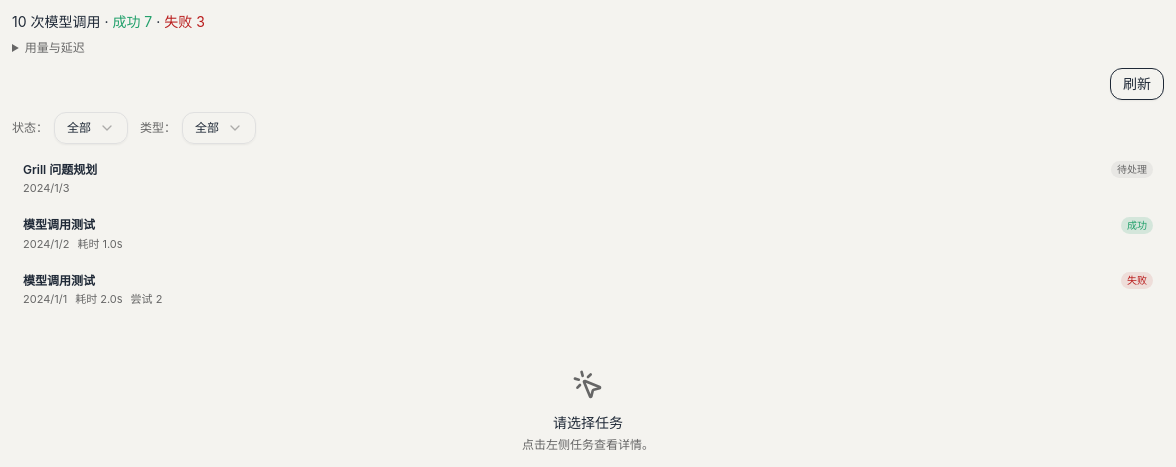
三、TaskCenter 键盘导航 › 筛选后焦点合法
The image size is (1176, 467).
What coordinates should you click on to do the following:
click the dropdown with test id "status-filter"
I would click on:
 (91, 128)
Its box is [54,112,128,144].
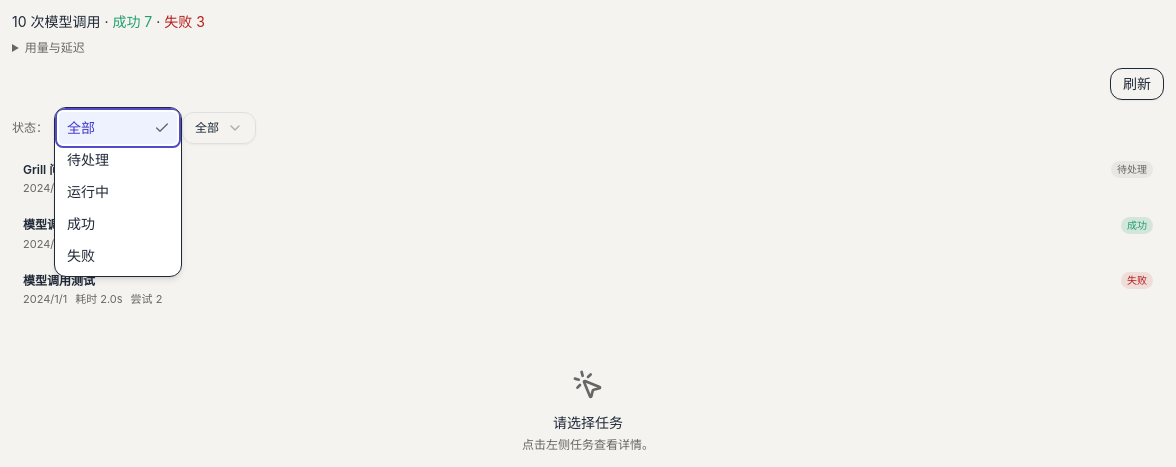
What coordinates should you click on to do the following:
click the option "失败"
I would click on:
 (81, 256)
Its box is [67,247,95,264].
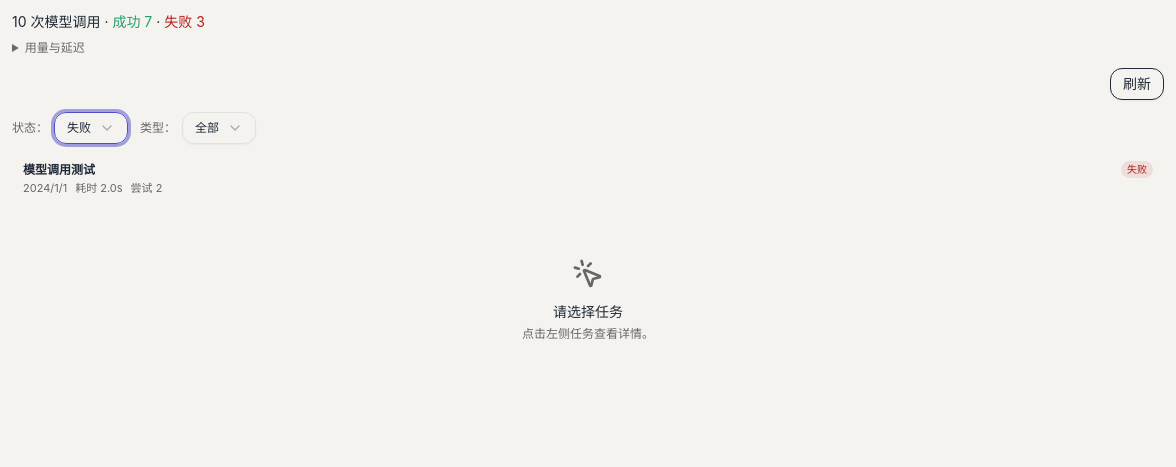
Check: the number of options with test id "task-item" is 1, box [12,152,1164,206]
